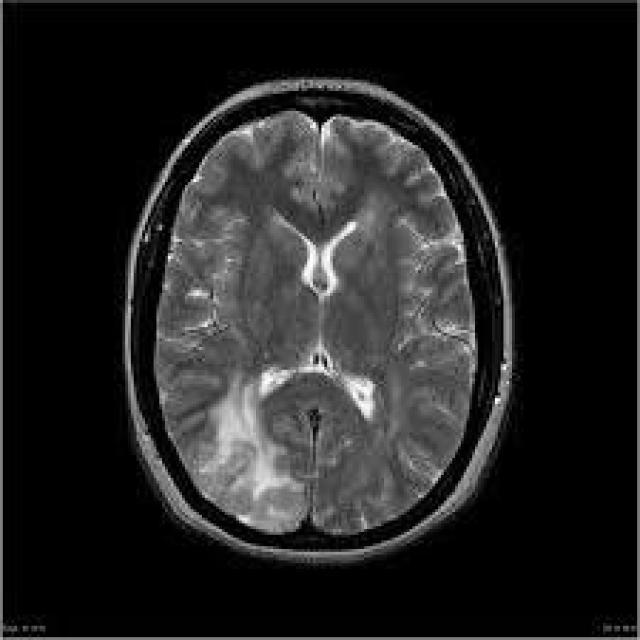notumor: (128, 77, 512, 566)
